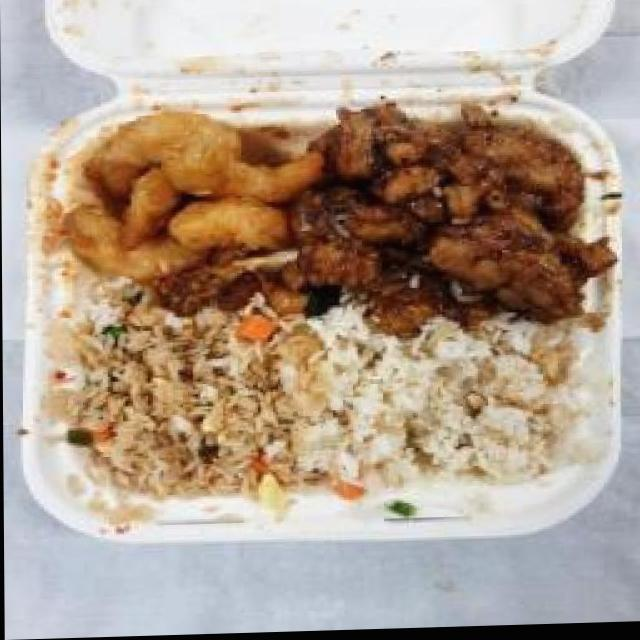Fried Rice: (65, 307, 329, 499)
Honey Walnut Shrimp: (56, 111, 322, 322)
The Original Orange Chicken: (281, 96, 620, 338)
White Steamed Rice: (307, 319, 591, 501)
